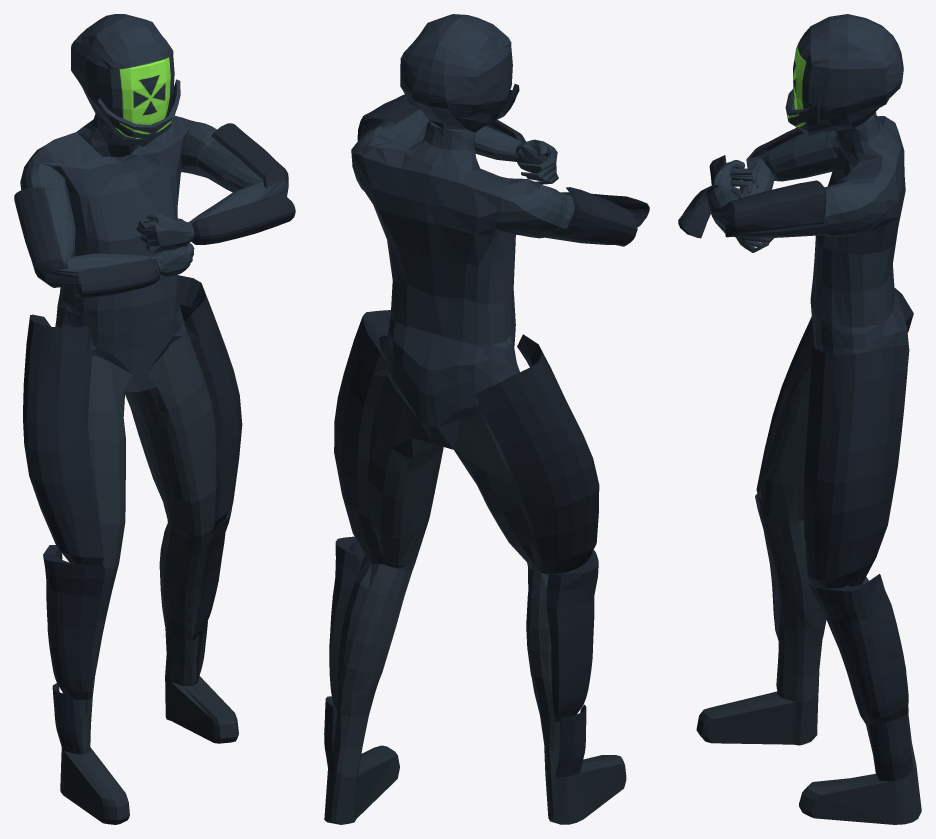
The model's file is Bastion_WF_000014.obj.
3 views of the same model, side by side, from view 1: azimuth 30°, elevation 25°; view 2: azimuth 150°, elevation 25°; view 3: azimuth 270°, elevation 25° (orthographic). The views are drawn at different scales.
Visible parts, largest first — view 1: Cube.002; view 2: Cube.002; view 3: Cube.002.
Boxes of the visible parts, x1,y1,x2,y2 form: Cube.002: (14, 14, 295, 824); Cube.002: (324, 14, 649, 824); Cube.002: (678, 14, 921, 824).
Bounding box in the file's own units: 1.31 × 3.83 × 1.12.
